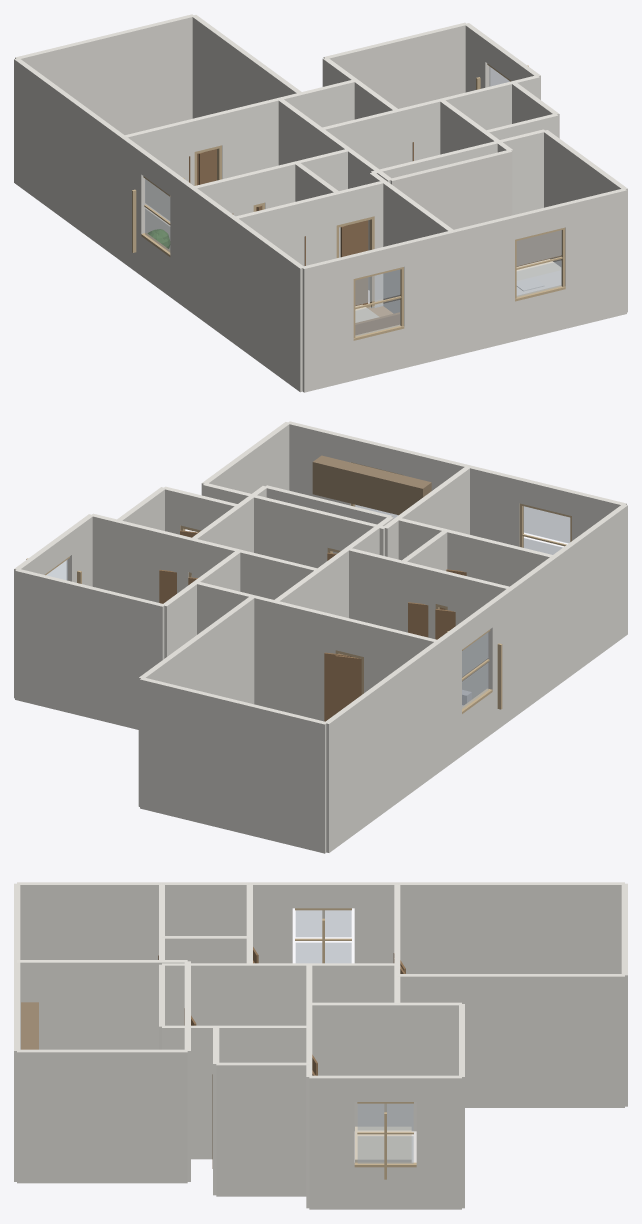
File: guy-blueprint-noceil.glb
3 views of the same model, one above another, from view 1: azimuth 30°, elevation 25°; view 2: azimuth 150°, elevation 25°; view 3: azimuth 270°, elevation 25° (orthographic). The views are drawn at different scales.
Parts seen in each view (by area): view 1: Wall_balcony_left, Wall_balcony_back, Wall_bedroom_1_left, Wall_kitchen_front_R, Wall_kitchen_front_L, Wall_bedroom_2_back, Wall_bedroom_1_front_L, Wall_bedroom_1_front_R, Wall_stairs_front, Wall_balcony_right, Wall_bathroom_1_left, Wall_stairs_back (+53 smaller); view 2: Wall_balcony_back, Wall_bedroom_2_back, Wall_balcony_left, Wall_bedroom_1_left, Wall_balcony_right, Wall_living_room_back_R, Wall_bathroom_1_left, Wall_balcony_front_R, Wall_kitchen_back_R, UpperCabinets, Wall_living_room_front_R, Wall_hallway_back (+48 smaller); view 3: Wall_balcony_right, Wall_kitchen_right, Wall_balcony_left, Wall_bathroom_2_right, Wall_kitchen_left, Wall_bedroom_1_left, Wall_bedroom_2_left, Wall_hallway_right, Wall_stairs_right, Wall_living_room_right, Wall_bedroom_2_right_L, Wall_bedroom_2_right_R (+22 smaller).
Boxes of the visible parts, bbox=[...] form: Wall_balcony_left: bbox=[14, 58, 124, 260]; Wall_balcony_back: bbox=[15, 14, 194, 134]; Wall_bedroom_1_left: bbox=[232, 217, 304, 392]; Wall_kitchen_front_R: bbox=[563, 188, 626, 328]; Wall_kitchen_front_L: bbox=[453, 215, 514, 355]; Wall_bedroom_2_back: bbox=[323, 22, 467, 108]; Wall_bedroom_1_front_L: bbox=[302, 255, 353, 392]; Wall_bedroom_1_front_R: bbox=[402, 231, 453, 368]; Wall_stairs_front: bbox=[390, 150, 512, 229]; Wall_balcony_right: bbox=[192, 15, 301, 118]; Wall_bathroom_1_left: bbox=[190, 187, 235, 341]; Wall_stairs_back: bbox=[325, 101, 440, 169]; Wall_balcony_back: bbox=[140, 678, 327, 853]; Wall_bedroom_2_back: bbox=[15, 568, 164, 729]; Wall_balcony_left: bbox=[326, 641, 440, 852]; Wall_bedroom_1_left: bbox=[552, 504, 627, 686]; Wall_balcony_right: bbox=[138, 596, 254, 806]; Wall_living_room_back_R: bbox=[273, 600, 337, 720]; Wall_bathroom_1_left: bbox=[508, 556, 556, 717]; Wall_balcony_front_R: bbox=[252, 596, 326, 721]; Wall_kitchen_back_R: bbox=[202, 483, 329, 568]; UpperCabinets: bbox=[312, 455, 431, 515]; Wall_living_room_front_R: bbox=[349, 548, 407, 630]; Wall_hallway_back: bbox=[195, 582, 276, 708]; Wall_balcony_right: bbox=[397, 974, 624, 1107]; Wall_kitchen_right: bbox=[17, 1049, 187, 1183]; Wall_balcony_left: bbox=[397, 882, 624, 973]; Wall_bathroom_2_right: bbox=[216, 1062, 309, 1196]; Wall_kitchen_left: bbox=[20, 960, 187, 1049]; Wall_bedroom_1_left: bbox=[17, 882, 161, 959]; Wall_bedroom_2_left: bbox=[309, 1002, 461, 1131]; Wall_hallway_right: bbox=[309, 1002, 397, 1130]; Wall_stairs_right: bbox=[162, 1025, 308, 1159]; Wall_living_room_right: bbox=[250, 963, 394, 1025]; Wall_bedroom_2_right_L: bbox=[309, 1075, 354, 1209]; Wall_bedroom_2_right_R: bbox=[416, 1075, 461, 1209].
Size of the model in its own units: 10.08 by 2.8 by 11.87.
